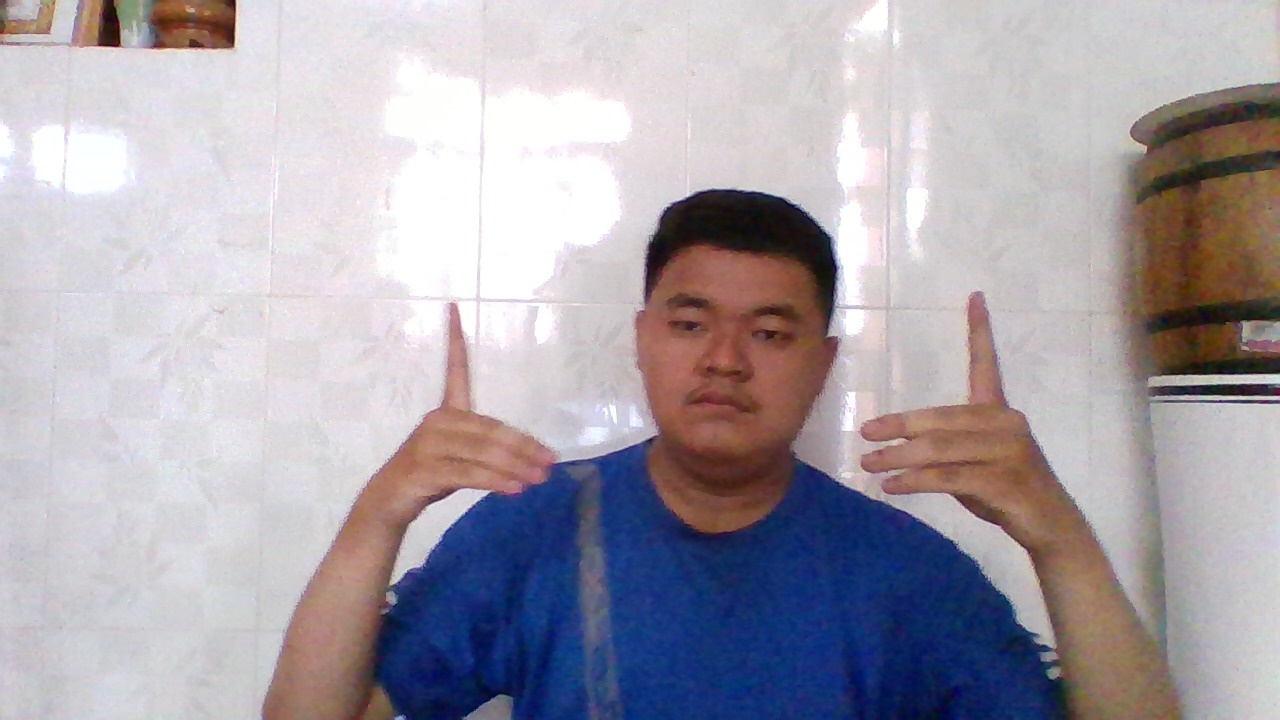D: (847, 278, 1075, 554), (359, 294, 566, 542)
